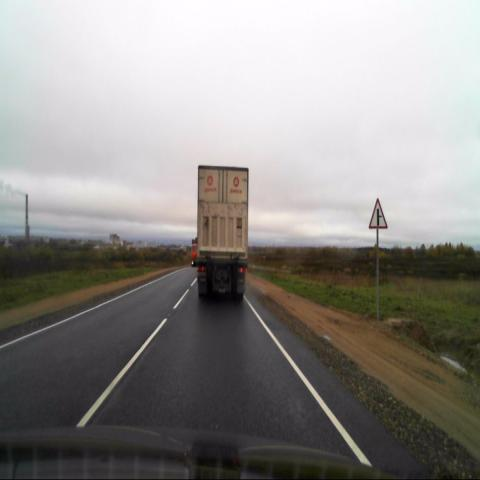2_3_2: (367, 198, 388, 229)
